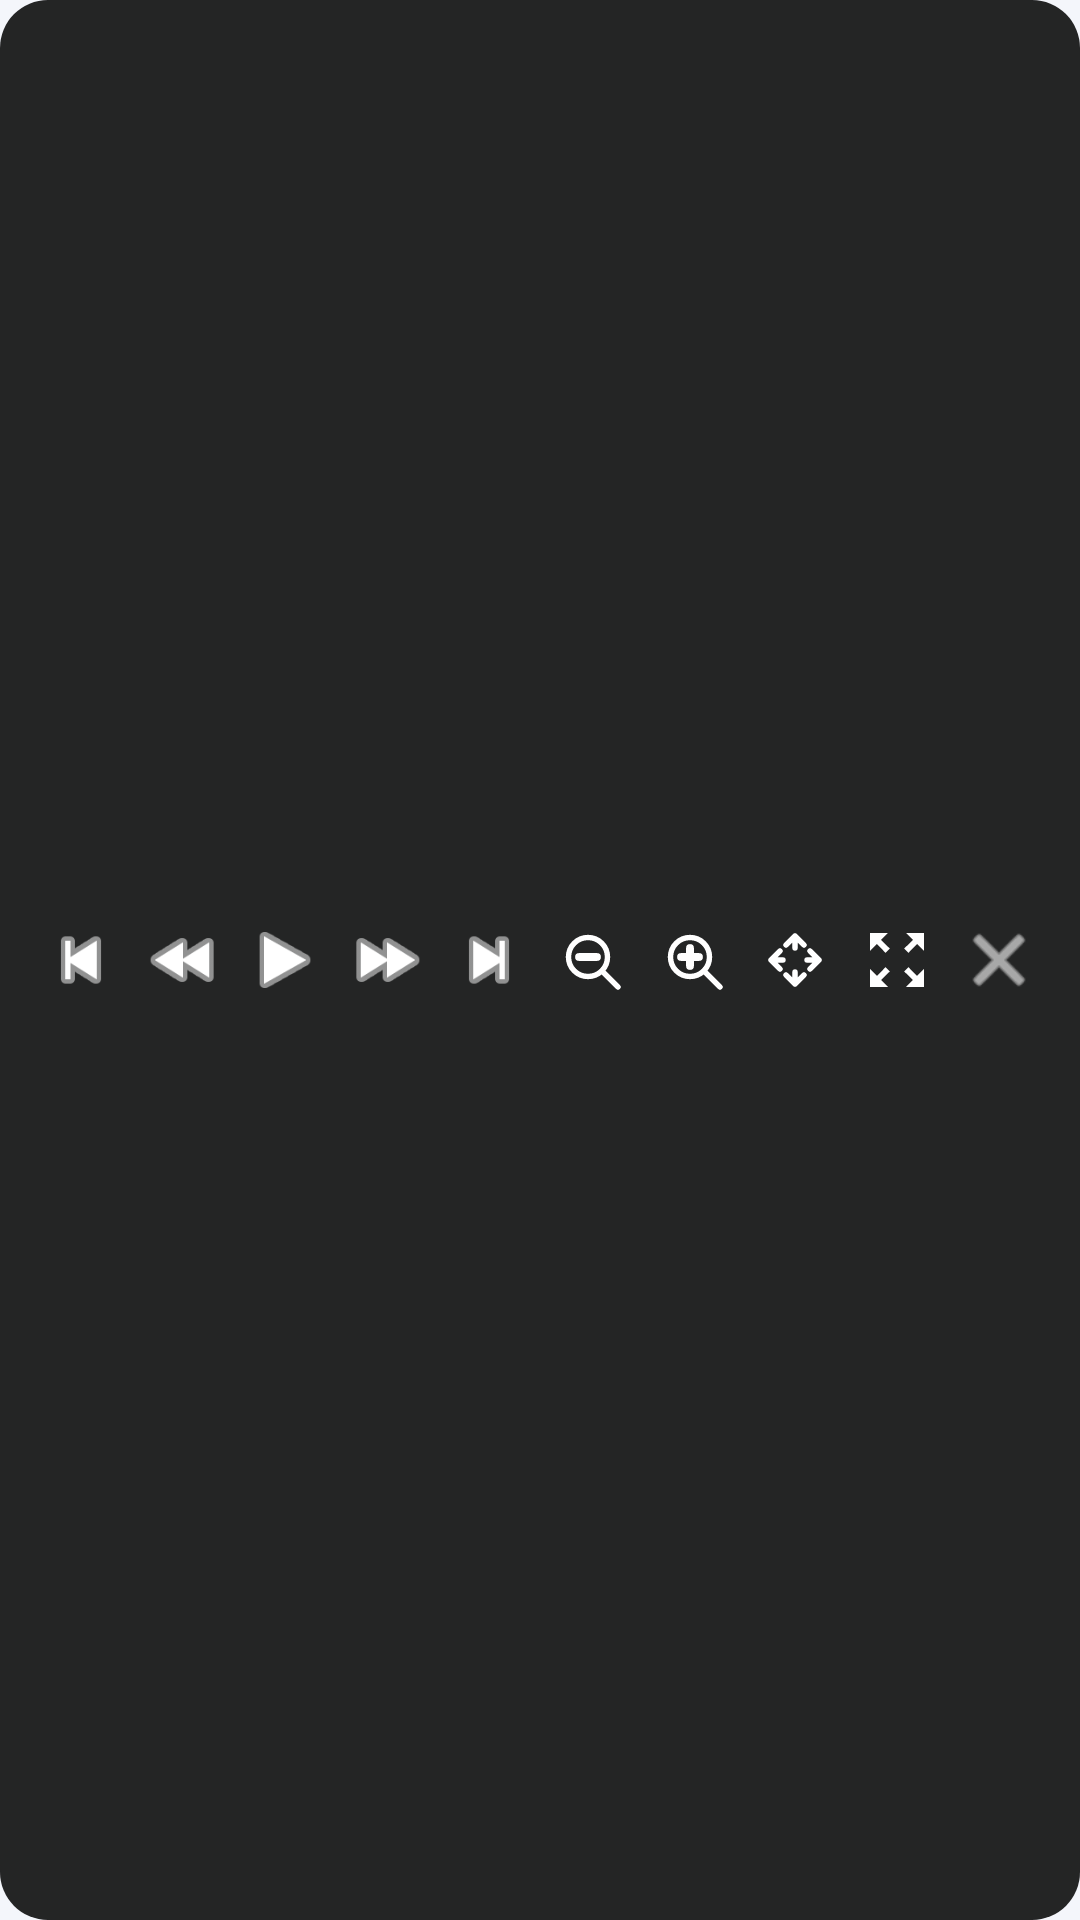

Where to tap for icons on this 1080×1920 app screen, as point (x, y):
上一屏: point (81, 960)
下一屏: point (489, 960)
关闭: point (999, 960)
减速: point (182, 960)
加速: point (388, 960)
拖动窗口: point (795, 960)
播放/暂停: point (285, 960)
放大字体: point (695, 962)
缩小字体: point (593, 962)
调整大小（拖动缩放，单击切换预设）: point (897, 960)
